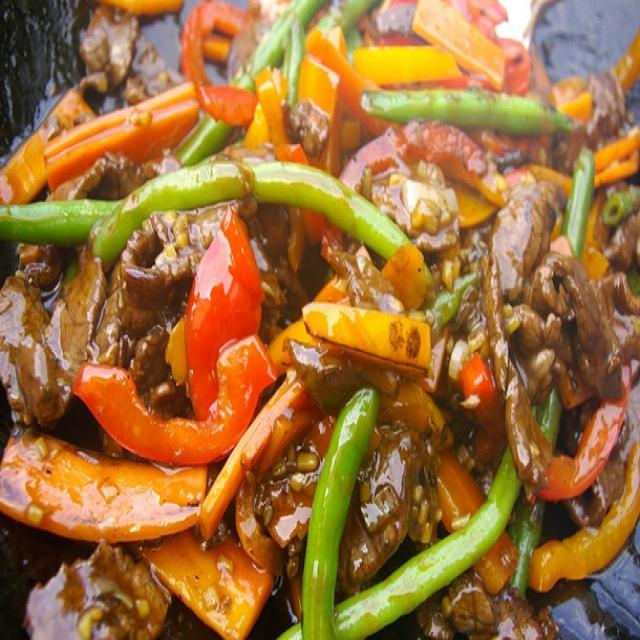牛肉菜式: (23, 23, 618, 615)
